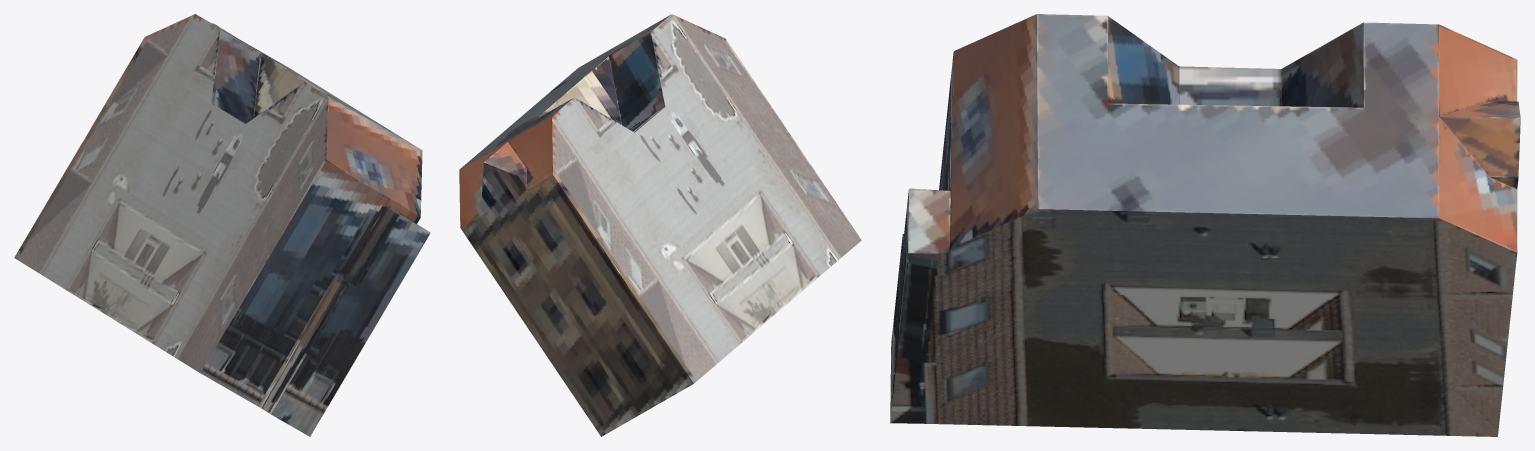
3 renders of one model, left to right at view 1: azimuth 30°, elevation 25°; view 2: azimuth 150°, elevation 25°; view 3: azimuth 270°, elevation 25°, orthographic. The views are drawn at different scales.
Parts seen in each view (by area): view 1: BAG_0599100000670798 (×2); view 2: BAG_0599100000670798 (×2); view 3: BAG_0599100000670798 (×3).
Boxes of the visible parts, box(x1,y1,x2,y2) form: BAG_0599100000670798 (×2): box(14, 14, 430, 436); BAG_0599100000670798 (×2): box(459, 14, 861, 436); BAG_0599100000670798 (×3): box(890, 14, 1520, 436).
Size of the model in its own units: 12.89 by 14.25 by 16.96.
Materials: 1 (1 with a texture image).
